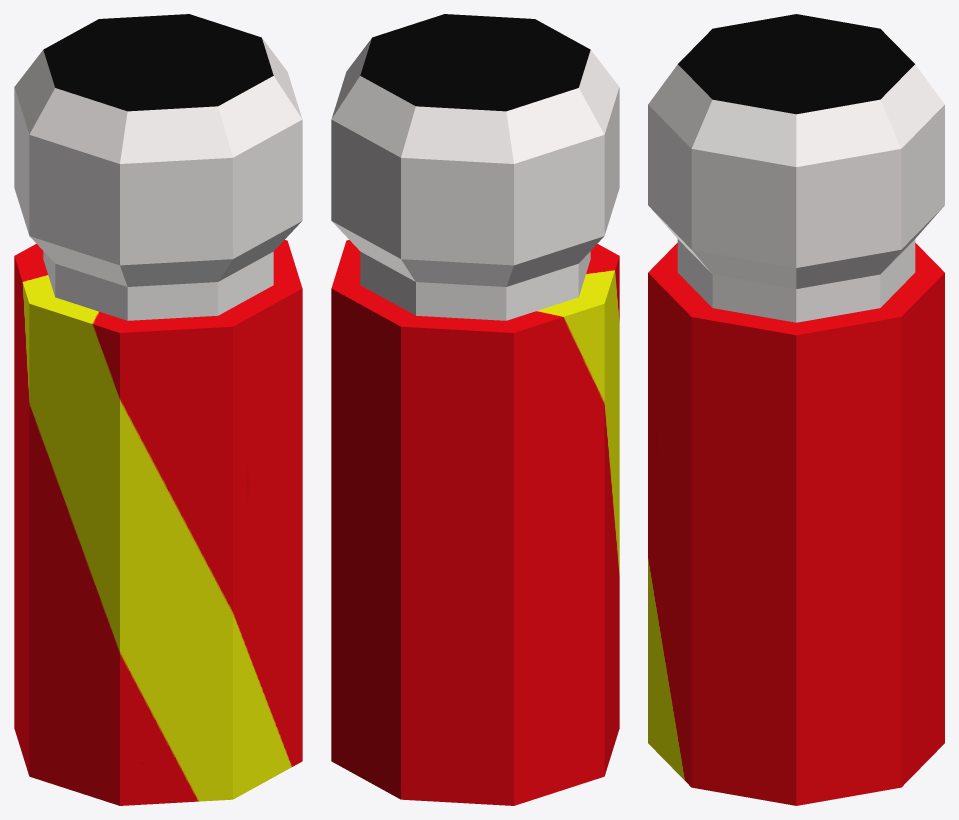
File: Pawn.glb
3 renders of one model, left to right at view 1: azimuth 30°, elevation 25°; view 2: azimuth 150°, elevation 25°; view 3: azimuth 270°, elevation 25°, orthographic.
Visible parts, largest first — view 1: Cube; view 2: Cube; view 3: Cube.
Boxes of the visible parts, left/top/right/bottom form: Cube: left=14, top=14, right=302, bottom=805; Cube: left=331, top=14, right=619, bottom=805; Cube: left=648, top=14, right=944, bottom=805.
Size of the model in its own units: 0.8 by 2.02 by 0.8.
1 material, 1 textured.
